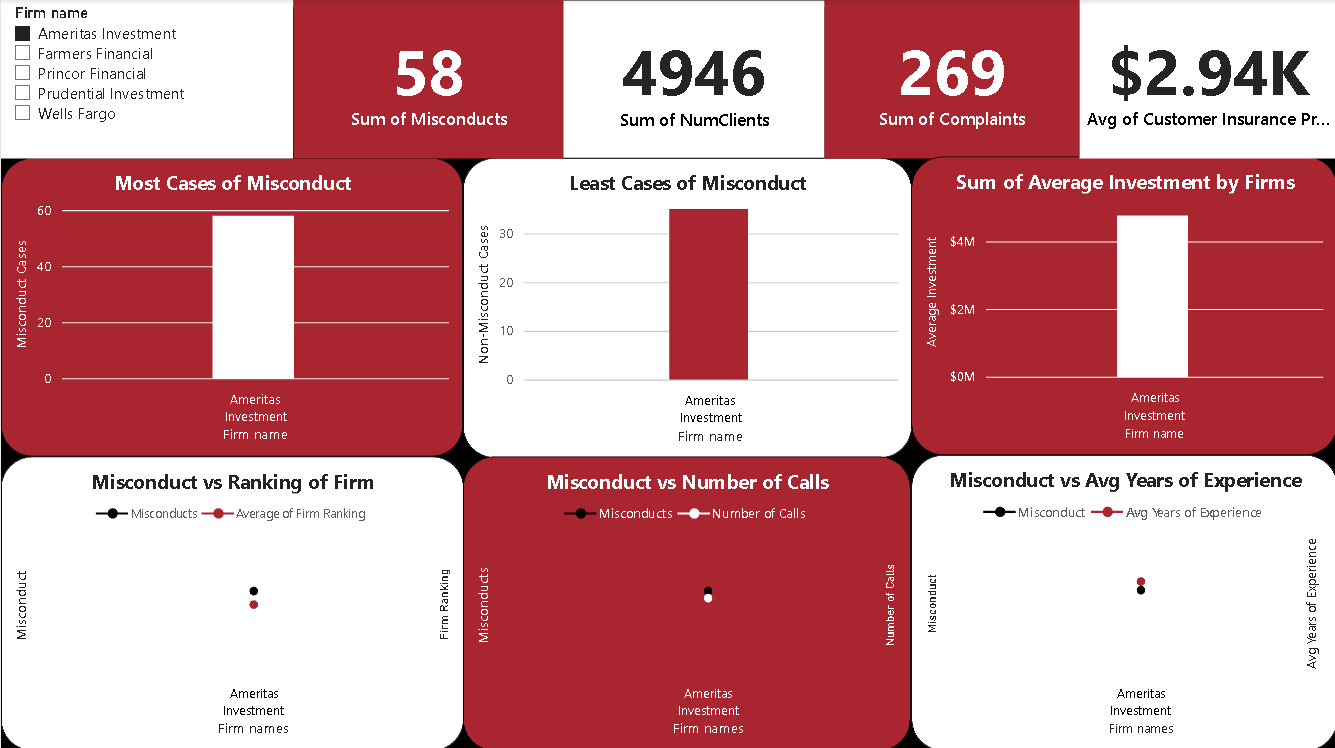

The page's visual inventory and layout, read from the dashboard file:
{"tool":"powerbi","page":{"name":"Page 1","canvas":[1280,720],"ordinal":0},"visuals":[{"type":"clusteredColumnChart","title":"Most Cases of Misconduct","fields":{"Category":["AdvisorMisconductData.Firm name"],"Y":["Sum(AdvisorMisconductData.Misconducts (0/1))"]},"box":[0,150,443.3,288.3],"z":0},{"type":"clusteredColumnChart","title":"Least Cases of Misconduct","fields":{"Category":["AdvisorMisconductData.Firm name"],"Y":["Sum(AdvisorMisconductData.Misconduct (0))"]},"box":[443.3,150,428.3,286.7],"z":1},{"type":"card","fields":{"Values":["Sum(AdvisorMisconductData.Complaints)"]},"box":[771.7,0,230,150],"z":2},{"type":"lineChart","title":"Misconduct vs Ranking of Firm","fields":{"Category":["AdvisorMisconductData.Firm name"],"Y":["Sum(AdvisorMisconductData.Misconducts (1))"],"Y2":["Avg(AdvisorMisconductData.Firm Ranking)"]},"box":[0,438.3,443.3,281.7],"z":3},{"type":"lineChart","title":"Misconduct vs Number of Calls","fields":{"Category":["AdvisorMisconductData.Firm name"],"Y":["Sum(AdvisorMisconductData.Misconducts (1))"],"Y2":["Avg(AdvisorMisconductData.Number of Calls)"]},"box":[443.3,438.3,428.3,281.7],"z":4},{"type":"lineChart","title":"Misconduct vs Avg Years of Experience","fields":{"Category":["AdvisorMisconductData.Firm name"],"Y":["Sum(AdvisorMisconductData.Misconducts (1))"],"Y2":["Avg(AdvisorMisconductData.YearsExperience)"]},"box":[871.7,438.3,408.3,281.7],"z":5},{"type":"columnChart","title":"Sum of Average Investment by Firms","fields":{"Category":["AdvisorMisconductData.Firm name"],"Y":["Sum(AdvisorMisconductData.AvgInvestment)"]},"box":[871.7,151.7,408.3,286.7],"z":6},{"type":"slicer","title":"Firm Names","fields":{"Values":["AdvisorMisconductData.Firm name"]},"box":[0,0,273.3,76.7],"z":7},{"type":"card","fields":{"Values":["Sum(AdvisorMisconductData.Misconducts (1))"]},"box":[311.7,0,230,150],"z":8},{"type":"card","fields":{"Values":["Sum(AdvisorMisconductData.NumClients)"]},"box":[541.7,1.7,230,150],"z":9},{"type":"card","fields":{"Values":["Avg(AdvisorMisconductData.Customer Insurance Premium)"]},"box":[1001.7,0,230,150],"z":10}]}

Visuals, with their boxes in screenshot pixels (x1, y1, x2, y2), scaled from the page's 1280x720 canvas onto the 1335x748 screenshot:
"Most Cases of Misconduct" clusteredColumnChart: x1=0, y1=156, x2=462, y2=455
"Least Cases of Misconduct" clusteredColumnChart: x1=462, y1=156, x2=909, y2=454
card - Sum(AdvisorMisconductData.Complaints): x1=805, y1=0, x2=1045, y2=156
"Misconduct vs Ranking of Firm" lineChart: x1=0, y1=455, x2=462, y2=747
"Misconduct vs Number of Calls" lineChart: x1=462, y1=455, x2=909, y2=747
"Misconduct vs Avg Years of Experience" lineChart: x1=909, y1=455, x2=1334, y2=747
"Sum of Average Investment by Firms" columnChart: x1=909, y1=158, x2=1334, y2=455
"Firm Names" slicer: x1=0, y1=0, x2=285, y2=80
card - Sum(AdvisorMisconductData.Misconducts (1)): x1=325, y1=0, x2=565, y2=156
card - Sum(AdvisorMisconductData.NumClients): x1=565, y1=2, x2=805, y2=158
card - Avg(AdvisorMisconductData.Customer Insurance Premium): x1=1045, y1=0, x2=1285, y2=156
